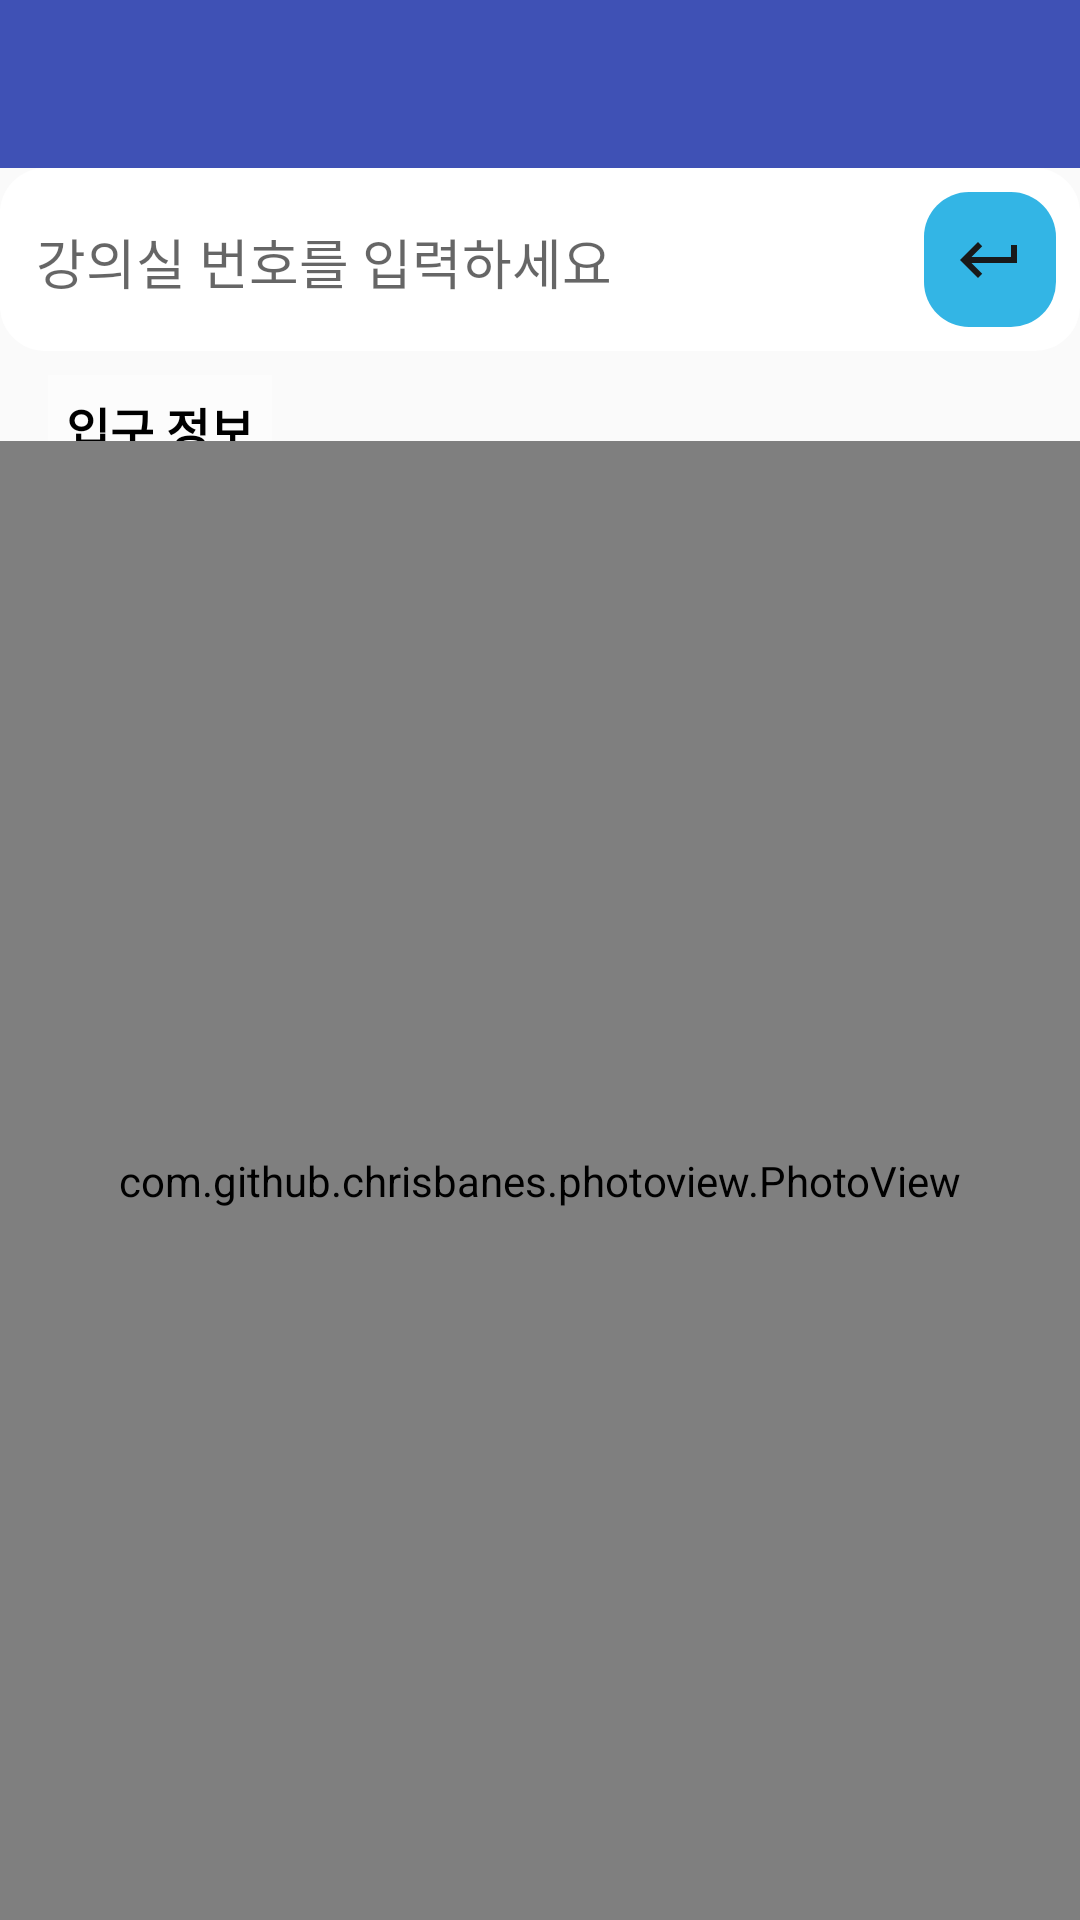

Point at icon controls on the screen. Image size 1080 x 1920, points as (x=x, y=y).
keyboard return: (x=990, y=259)
